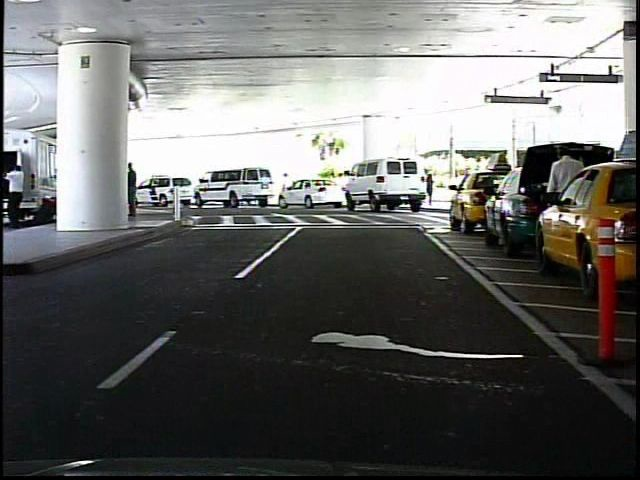person: (543, 141, 585, 264), (423, 170, 438, 208), (277, 170, 293, 204)
